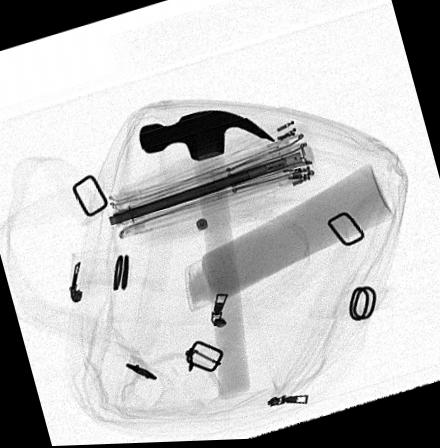Hammer: (139, 111, 276, 403)
